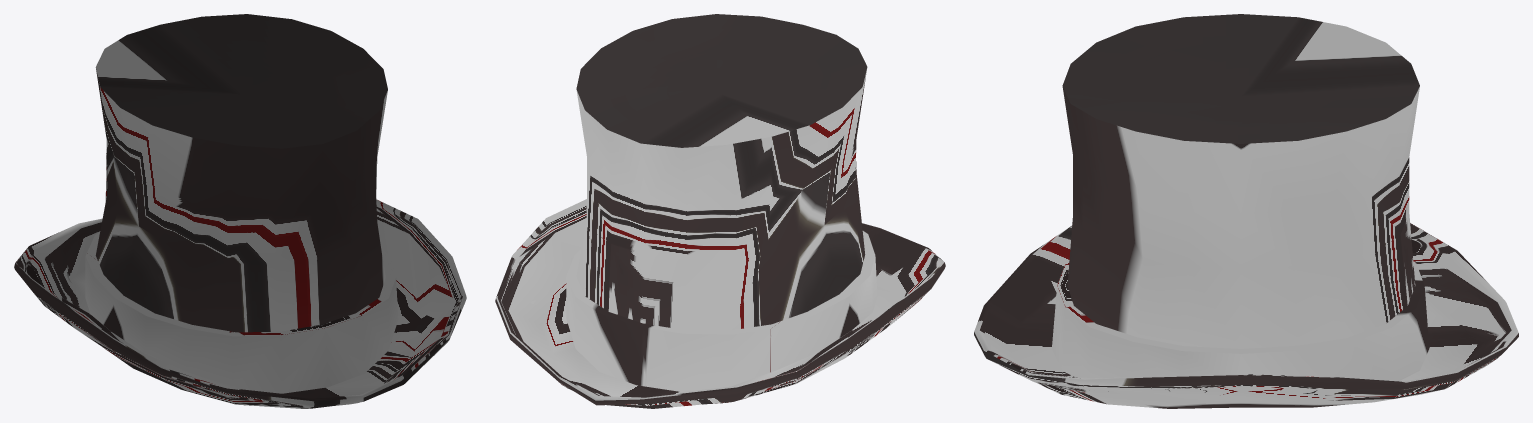
The model's file is magicianHat.obj.
3 views of the same model, side by side, from view 1: azimuth 30°, elevation 25°; view 2: azimuth 150°, elevation 25°; view 3: azimuth 270°, elevation 25° (orthographic). The views are drawn at different scales.
Parts seen in each view (by area): view 1: obj_46260089; view 2: obj_46260089; view 3: obj_46260089.
Part boxes in pixels (bbox=[...]): obj_46260089: bbox=[14, 14, 466, 408]; obj_46260089: bbox=[495, 14, 945, 408]; obj_46260089: bbox=[974, 14, 1518, 408].
Bounding box in the file's own units: 6.79 × 4.64 × 8.22.
